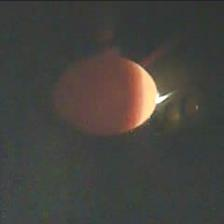fertile: (47, 53, 165, 141)
